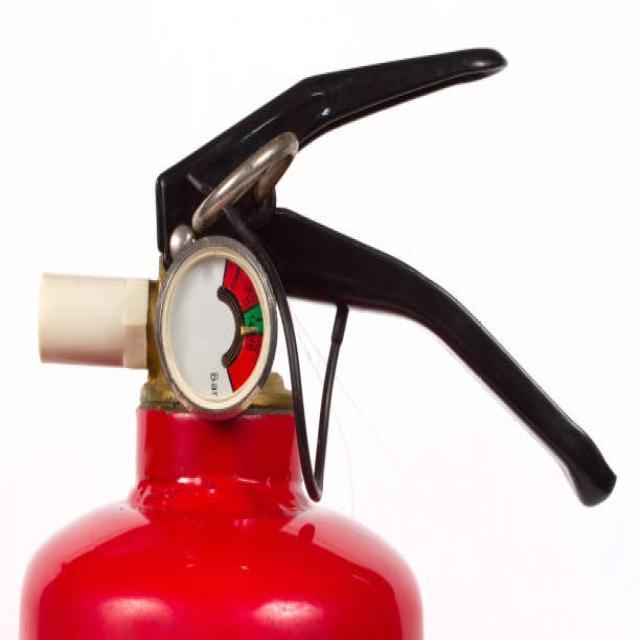pressure gauge: (156, 237, 276, 417)
